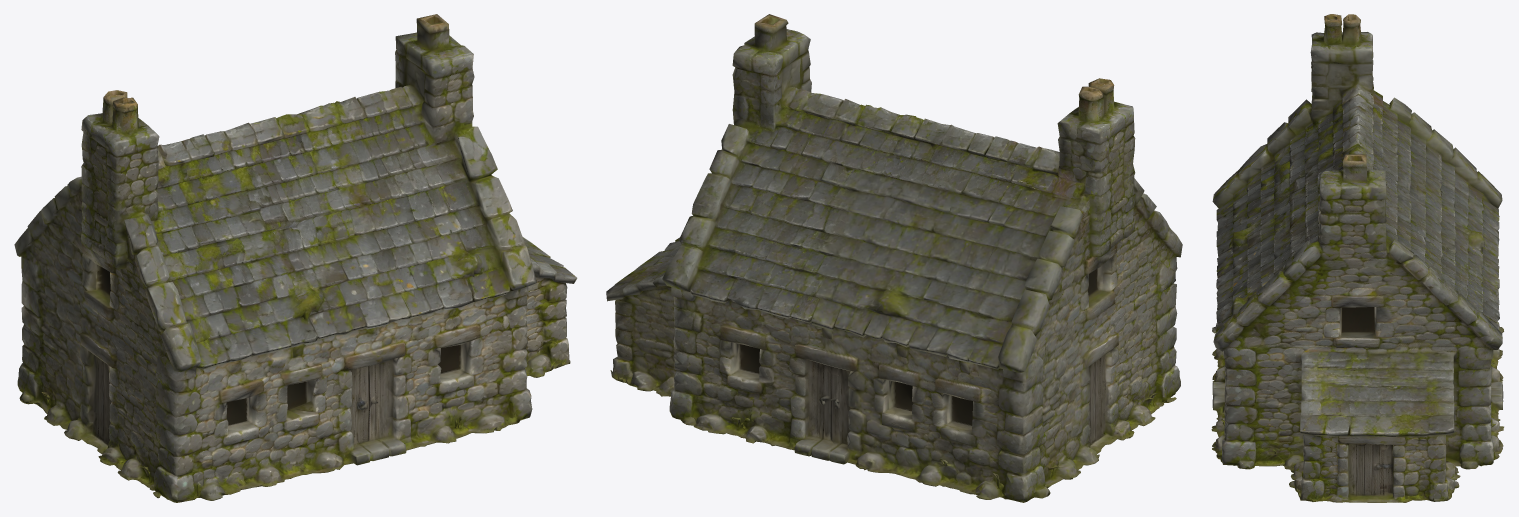
File: stone_farmhouse_tripo.glb
The picture shows the model from 3 angles, left to right: view 1: azimuth 30°, elevation 25°; view 2: azimuth 150°, elevation 25°; view 3: azimuth 270°, elevation 25°; orthographic projection. The views are drawn at different scales.
Visible parts, largest first — view 1: tripo_node_f5fcb7f5-bef0-4588-945a-3be1fbca04e9; view 2: tripo_node_f5fcb7f5-bef0-4588-945a-3be1fbca04e9; view 3: tripo_node_f5fcb7f5-bef0-4588-945a-3be1fbca04e9.
Boxes of the visible parts, x1=… form: tripo_node_f5fcb7f5-bef0-4588-945a-3be1fbca04e9: x1=14, y1=14, x2=577, y2=502; tripo_node_f5fcb7f5-bef0-4588-945a-3be1fbca04e9: x1=606, y1=14, x2=1182, y2=502; tripo_node_f5fcb7f5-bef0-4588-945a-3be1fbca04e9: x1=1211, y1=14, x2=1503, y2=502.
Size of the model in its own units: 1 by 0.7285 by 0.6341.
1 material, 1 textured.
